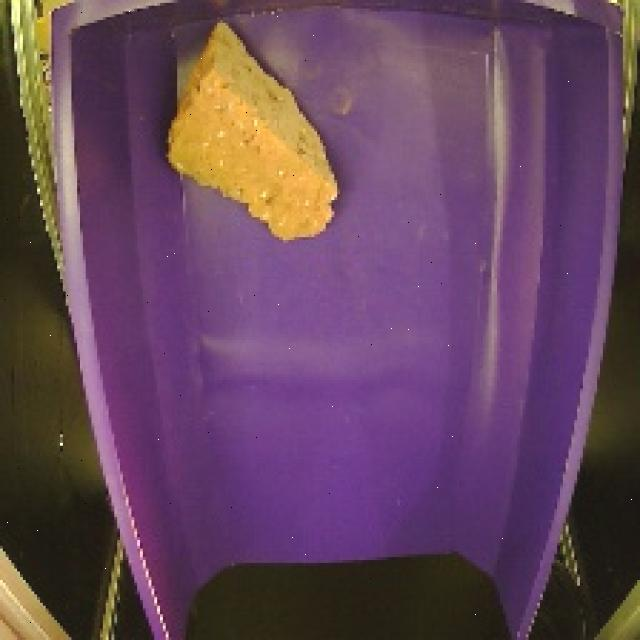brick: (158, 20, 350, 246)
